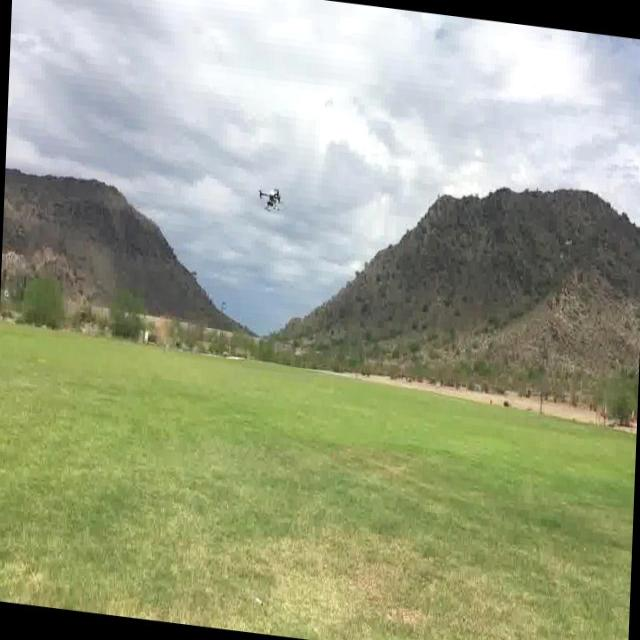drone: (255, 183, 287, 218)
